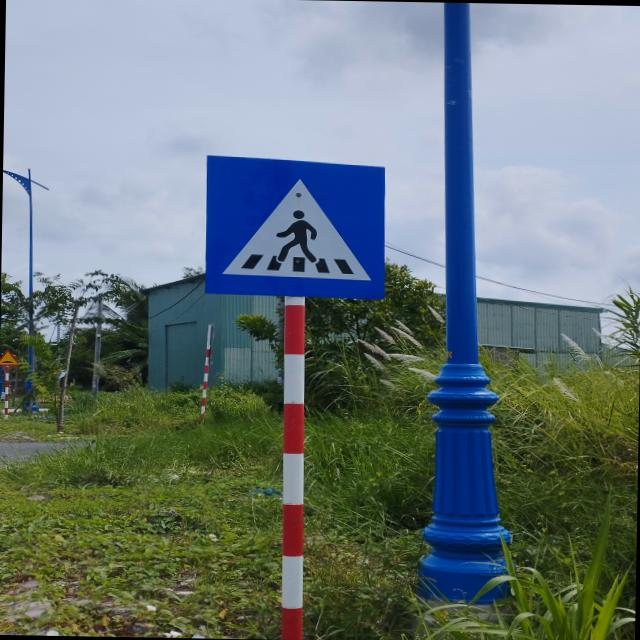Giao_Nhau_Duong_Uu_Tien: (205, 156, 388, 299)
